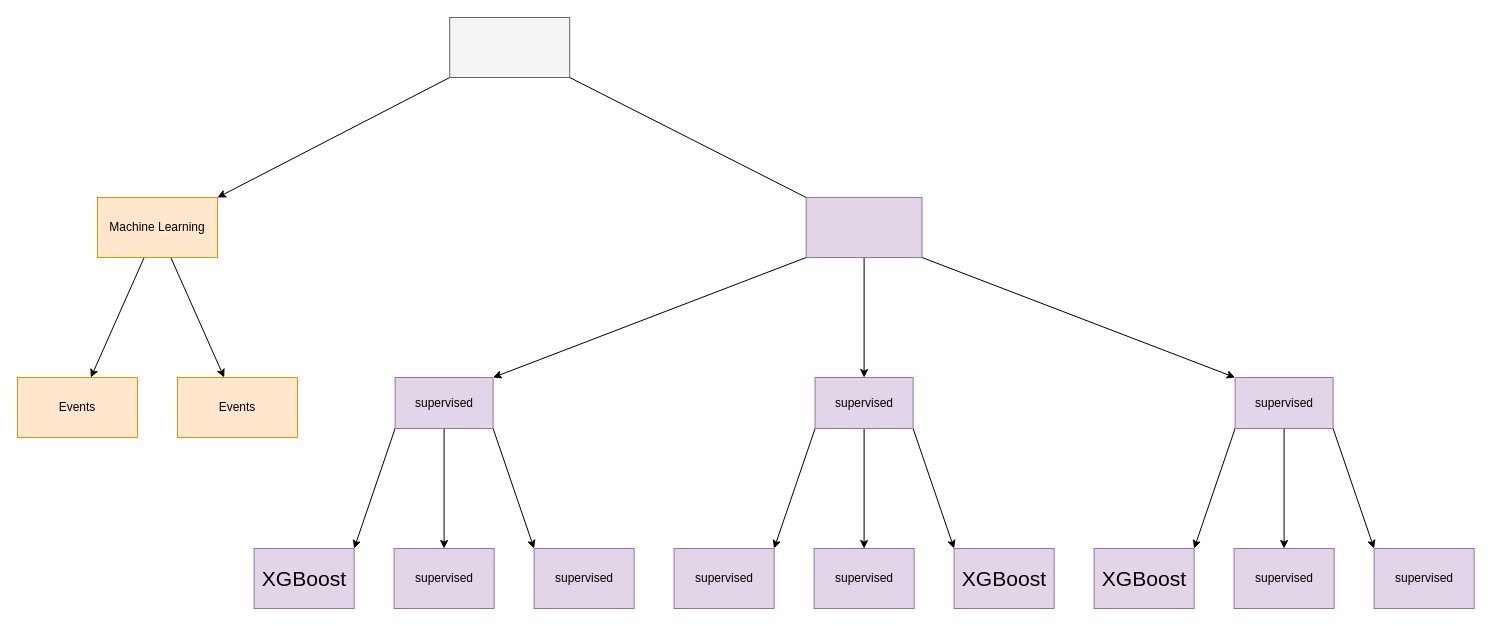
Some shapes in this 1492 by 626 pixel diagram are drawn without their labels. Each missing label, with the centre of its shape:
"Machine Larning" goes at pixel 863 227.
"Method" goes at pixel 509 47.
